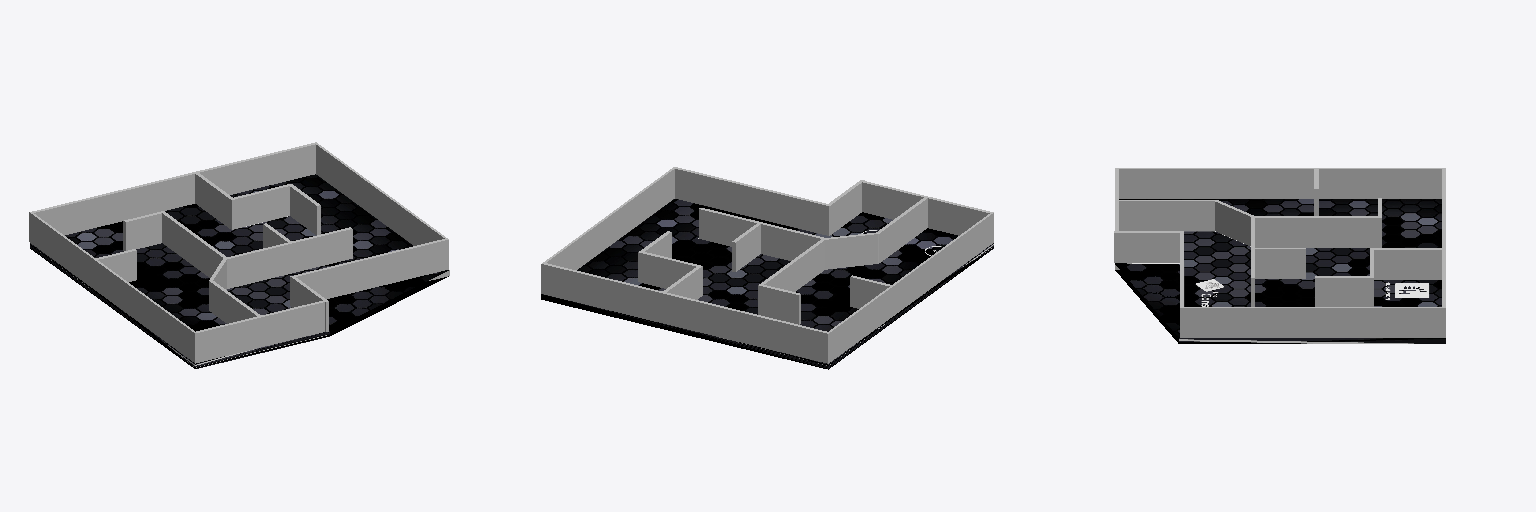
3 renders of one model, left to right at view 1: azimuth 30°, elevation 25°; view 2: azimuth 150°, elevation 25°; view 3: azimuth 270°, elevation 25°, orthographic.
Visible parts, largest first — view 1: Cube.013, FLOOR; view 2: Cube.013, FLOOR; view 3: Cube.013, FLOOR.
Part boxes in pixels (left/top/right/bottom): Cube.013: left=29, top=142, right=448, bottom=363; FLOOR: left=30, top=174, right=449, bottom=368; Cube.013: left=541, top=167, right=993, bottom=363; FLOOR: left=541, top=199, right=993, bottom=369; Cube.013: left=1114, top=168, right=1445, bottom=337; FLOOR: left=1115, top=199, right=1445, bottom=343.
Bounding box in the file's own units: 2.5 × 0.2988 × 2.51.
3 materials, 1 textured.